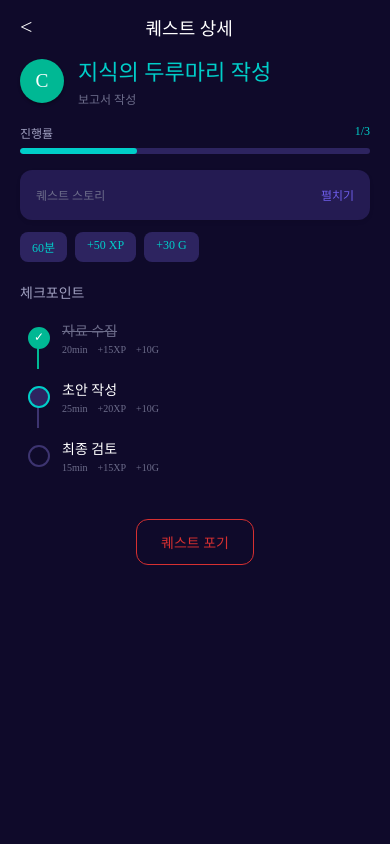
Test case: QuestDetailScreen › shows action buttons when pending checkpoint tapped
Click the text "최종 검토" at (90, 450), box [62,442,117,457]
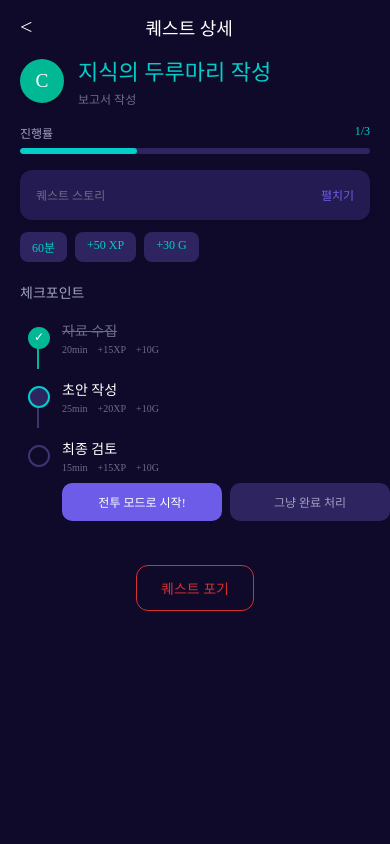
Check: the text "전투 모드로 시작!" is shown, box [98,493,186,511]
Check: the text "그냥 완료 처리" is shown, box [274,493,346,511]
